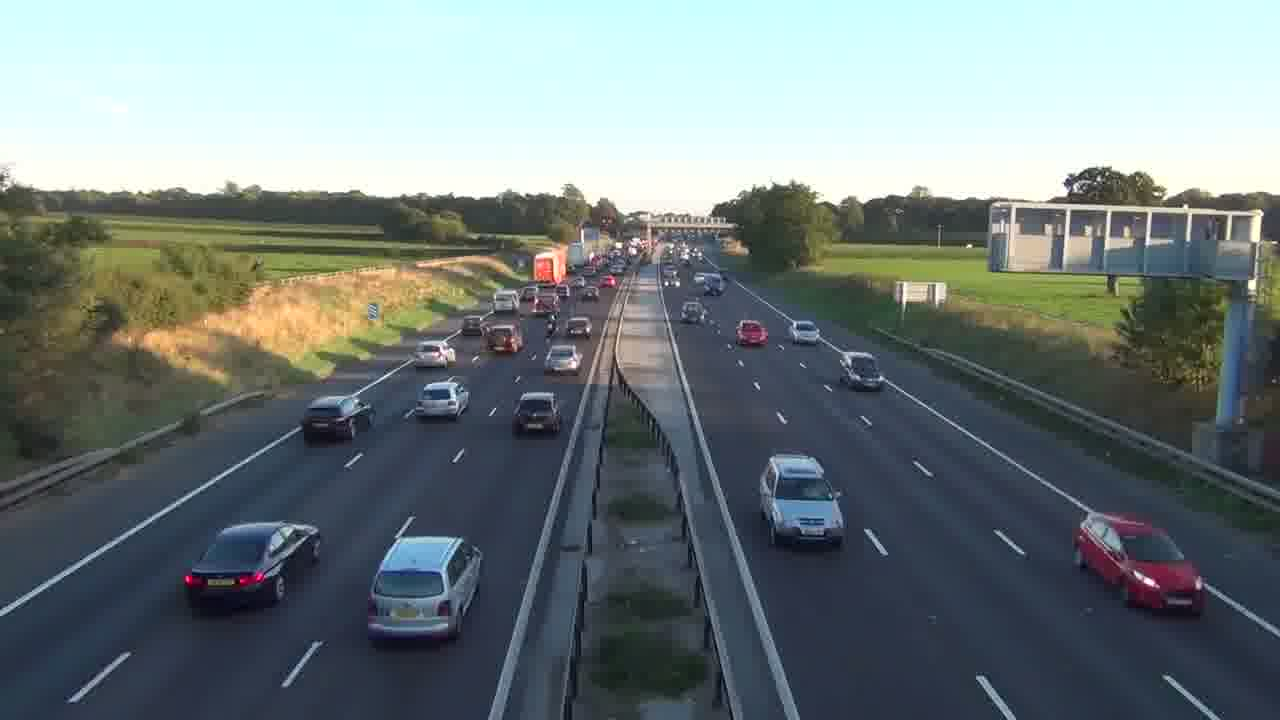car: (1073, 508, 1208, 616), (180, 520, 322, 614), (366, 532, 484, 645), (758, 453, 848, 549), (511, 390, 562, 435), (417, 379, 469, 419), (837, 350, 883, 391), (543, 343, 583, 374)
